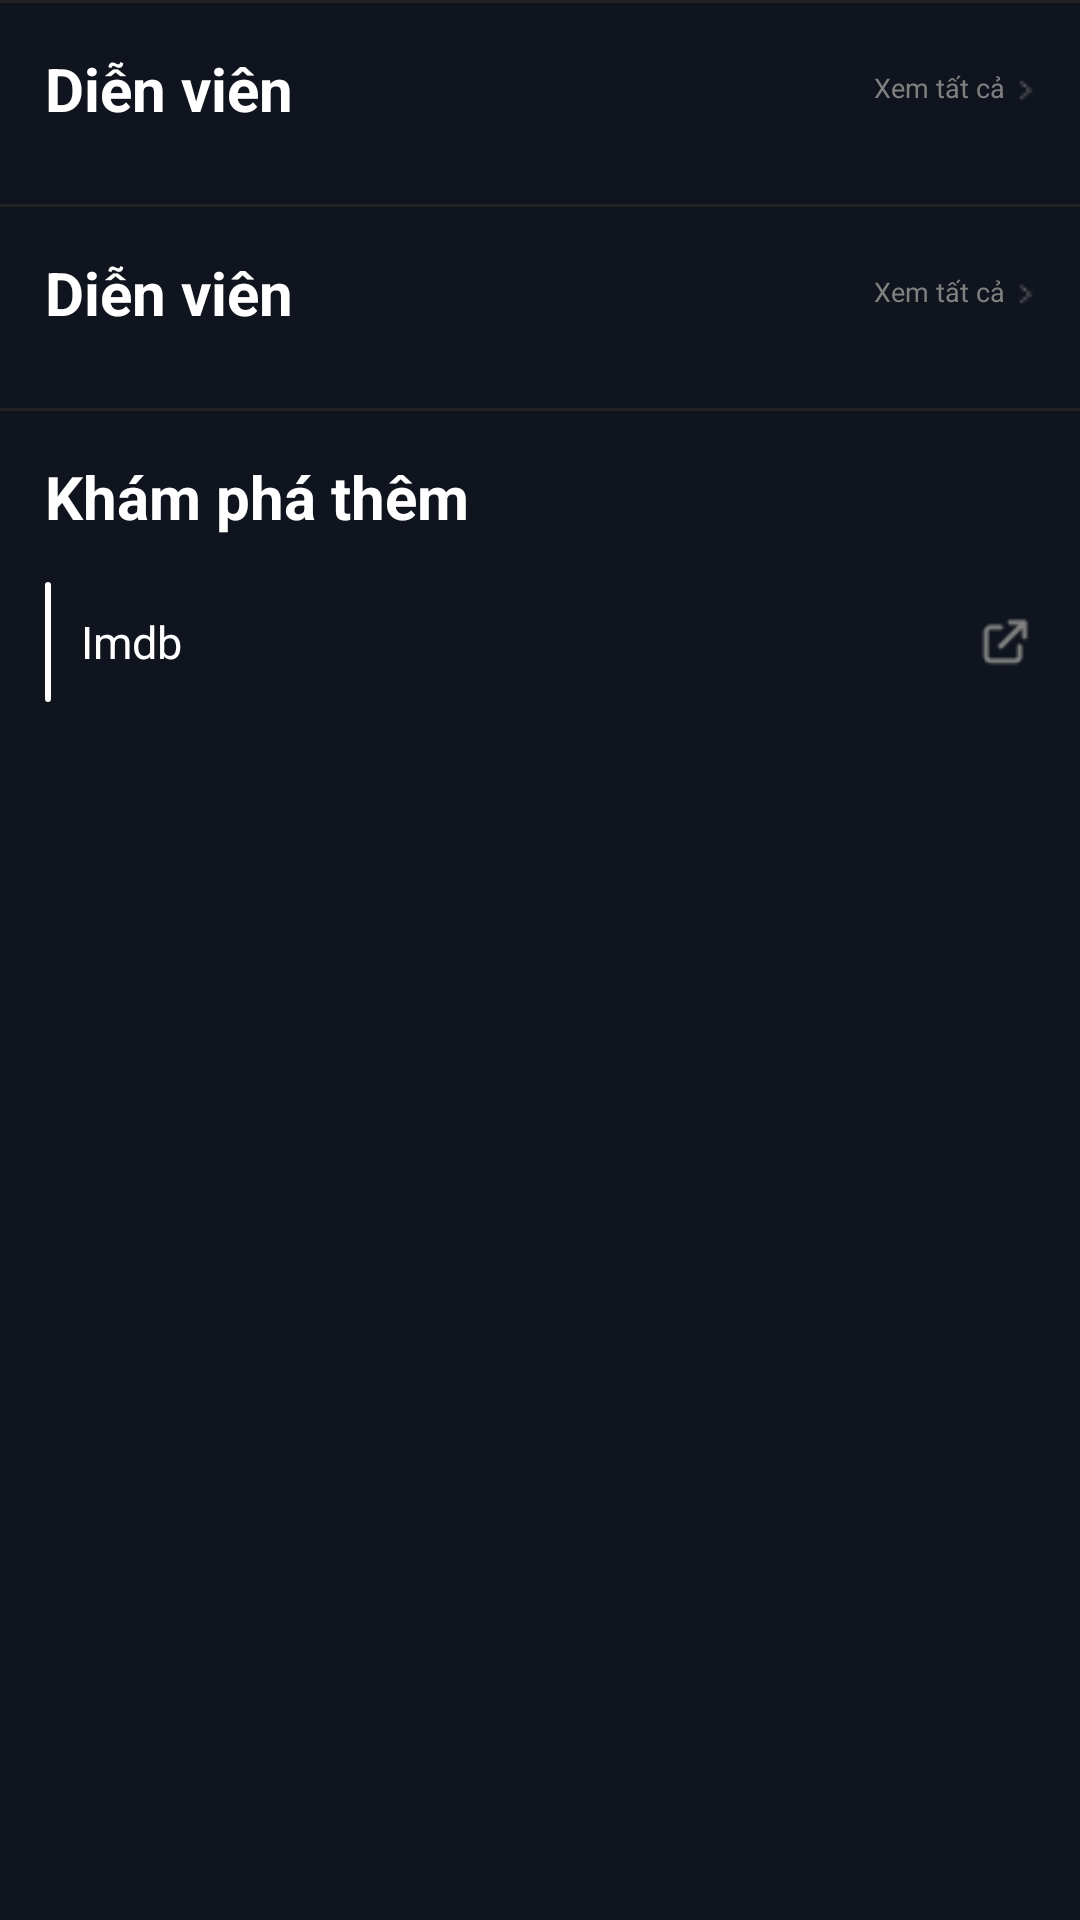

Named icons in this screenshot (1080w x 1920h) and their centers, (x=x, y=y):
external link: (x=1005, y=642)
